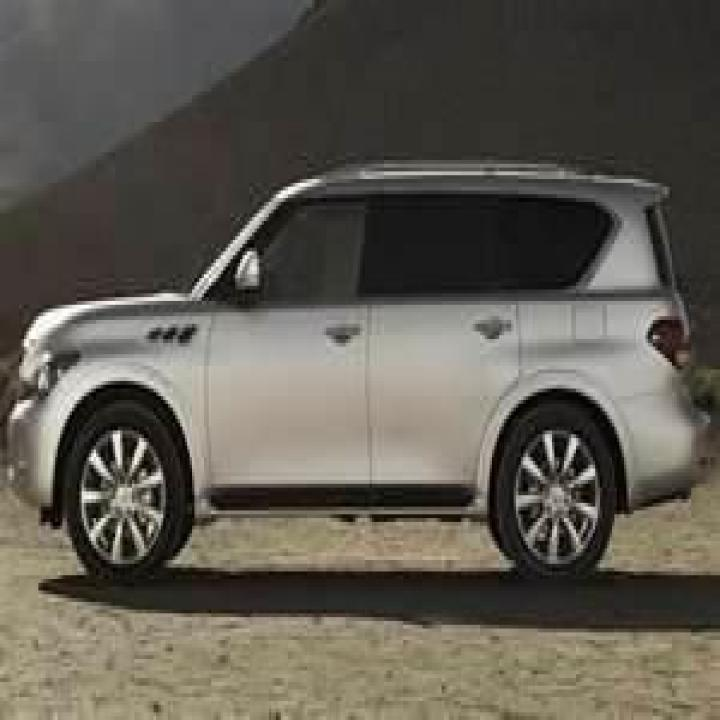car: (3, 152, 710, 583)
